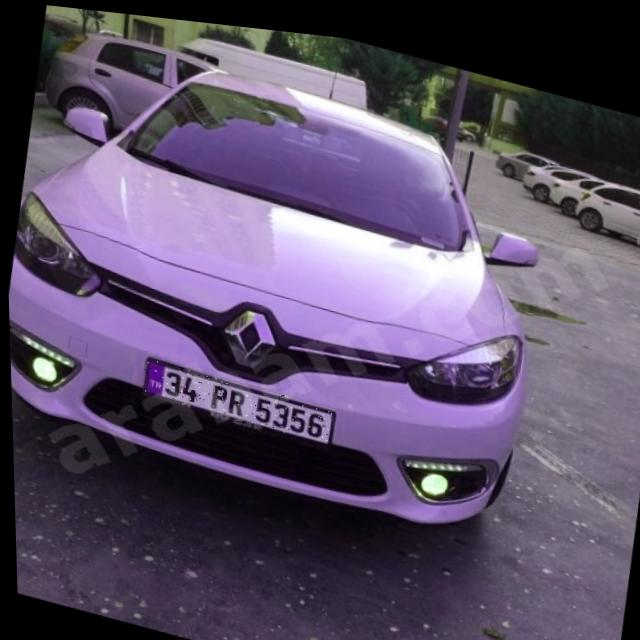license_plate: (138, 355, 333, 438)
